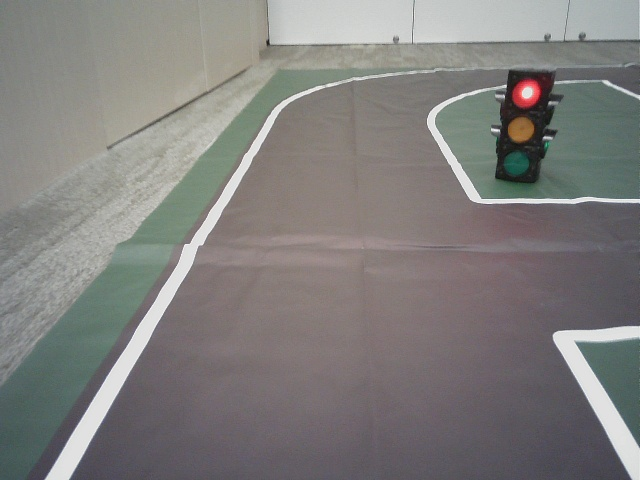red: (502, 73, 538, 176)
